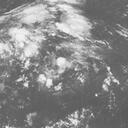cyclone: (30, 26, 88, 91)
